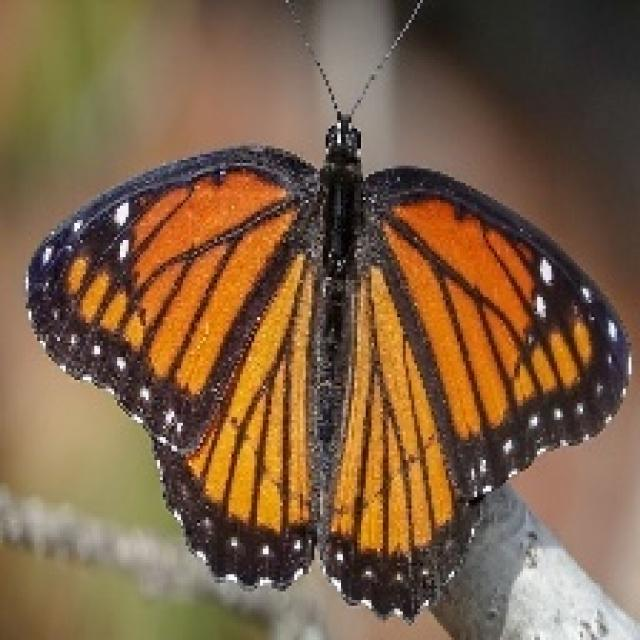butterfly: (23, 0, 631, 623)
